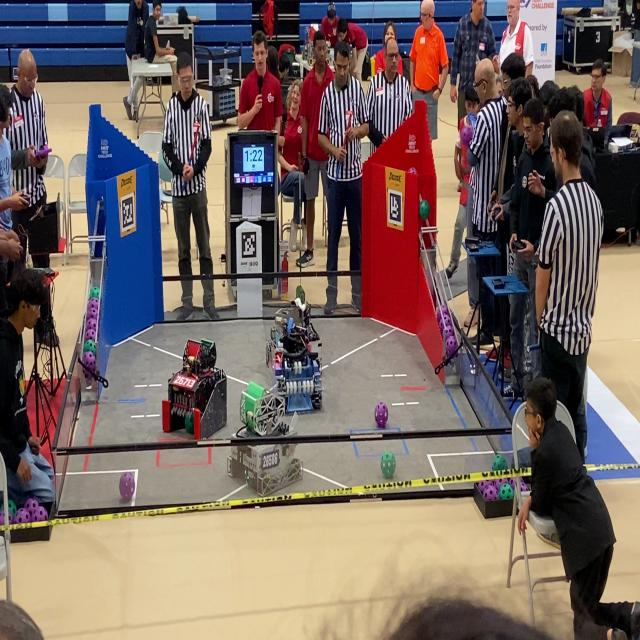artifact_green: (241, 382, 264, 430), (381, 452, 396, 478), (24, 498, 39, 520), (498, 483, 514, 500), (492, 453, 507, 471), (419, 200, 430, 220), (0, 509, 12, 526), (185, 412, 194, 434), (493, 478, 508, 491), (83, 340, 96, 354), (296, 285, 305, 304), (8, 499, 17, 516), (8, 500, 16, 517), (8, 500, 16, 516), (89, 287, 99, 299)
artifact_purple: (120, 472, 135, 501), (375, 402, 388, 428), (460, 124, 474, 148), (82, 351, 96, 373), (24, 498, 39, 516), (482, 486, 498, 502), (14, 508, 31, 523), (446, 334, 457, 357), (32, 506, 48, 521), (419, 200, 430, 221), (446, 332, 457, 349), (478, 480, 492, 493), (443, 325, 454, 340), (443, 307, 452, 325), (442, 314, 454, 327), (439, 304, 448, 321), (496, 479, 508, 491), (85, 328, 96, 341), (86, 319, 97, 330), (88, 299, 99, 310), (87, 308, 97, 320), (520, 478, 529, 491), (493, 479, 503, 490), (508, 478, 516, 489), (0, 510, 5, 525), (439, 319, 444, 334), (436, 307, 441, 322), (446, 350, 455, 358), (409, 168, 417, 174)
